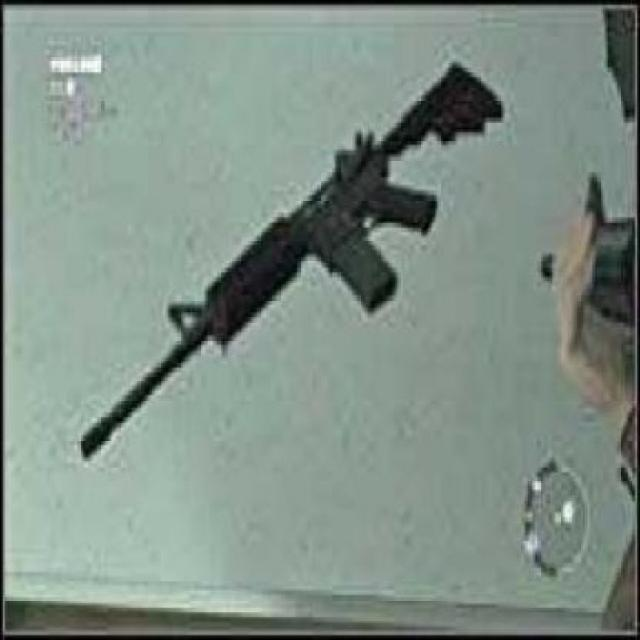Rifle: (80, 59, 504, 458)
